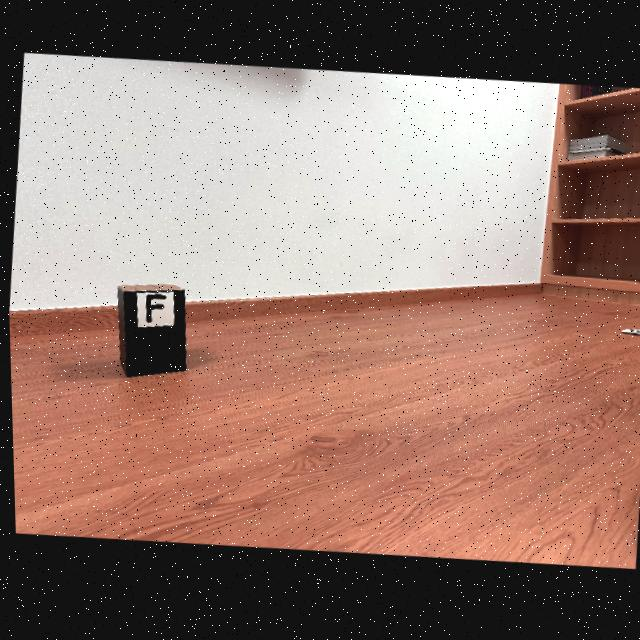F: (143, 295, 164, 324)
